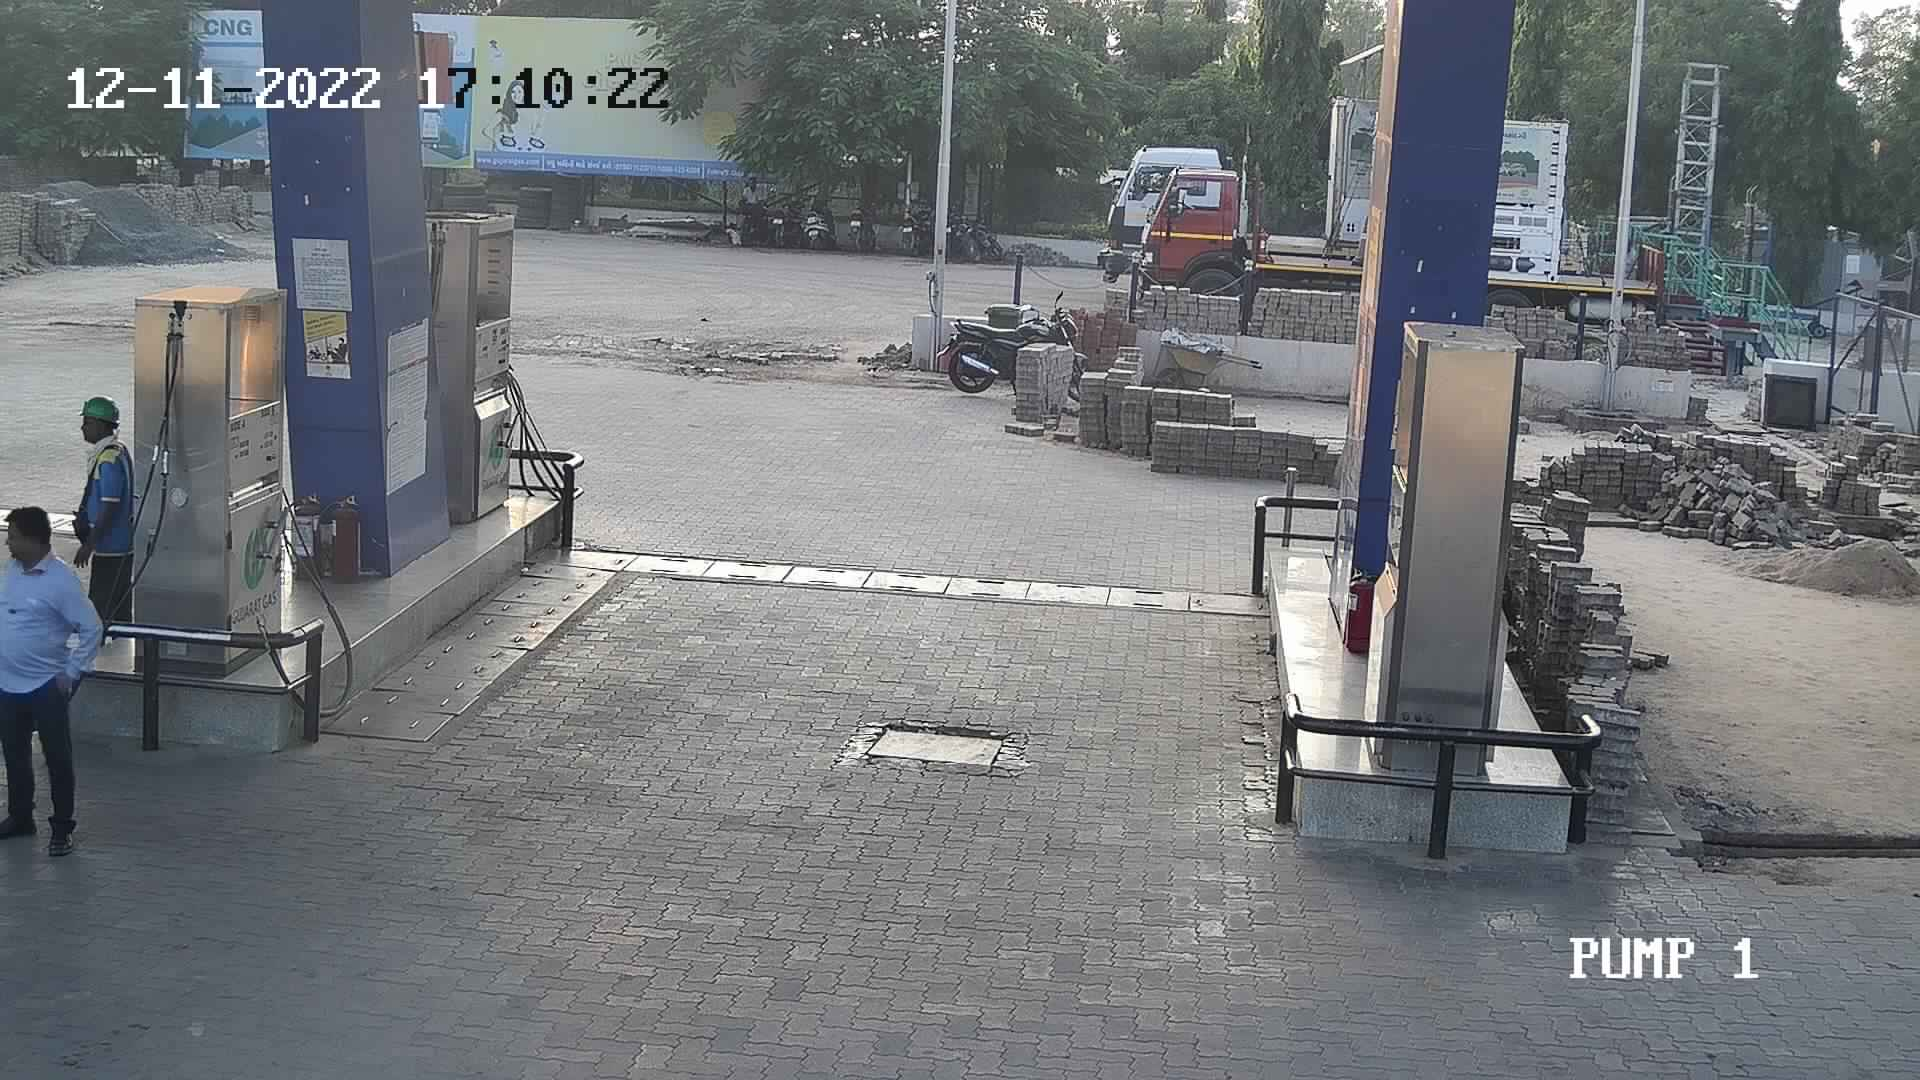Bike: (938, 286, 1110, 426), (943, 198, 1011, 269), (760, 189, 815, 248), (891, 191, 926, 262), (800, 189, 840, 248), (847, 194, 885, 252)
HMV: (1088, 86, 1383, 280), (1121, 160, 1375, 299)
Others: (50, 392, 138, 632)
